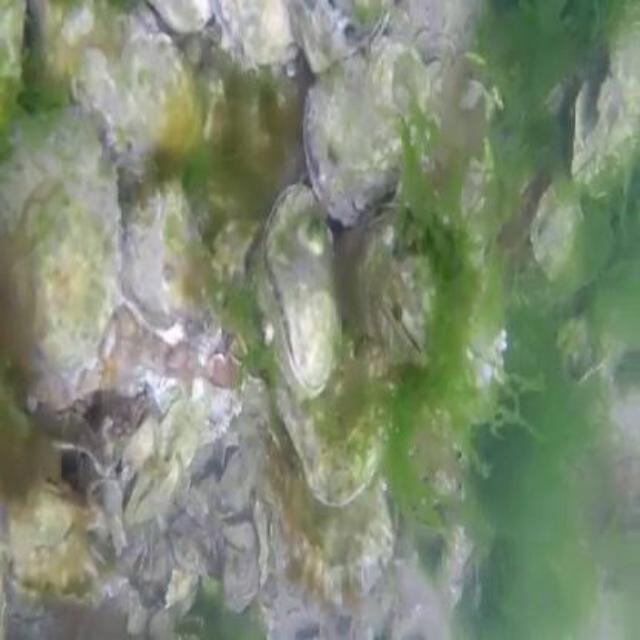Oyster-Closed: (0, 106, 121, 406), (33, 0, 198, 177), (303, 36, 433, 222), (273, 417, 393, 593), (271, 334, 386, 506), (261, 184, 340, 400), (0, 486, 104, 590), (210, 0, 299, 78), (290, 0, 357, 73), (533, 175, 581, 276), (146, 0, 212, 28), (366, 6, 393, 50)
Oyster-Open: (573, 11, 640, 193)
